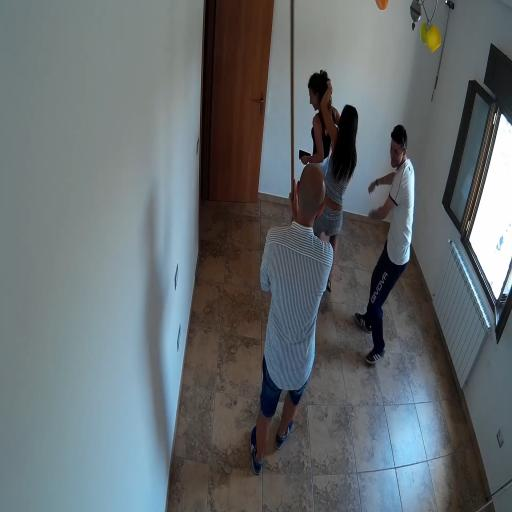violencia: (292, 58, 360, 306)
